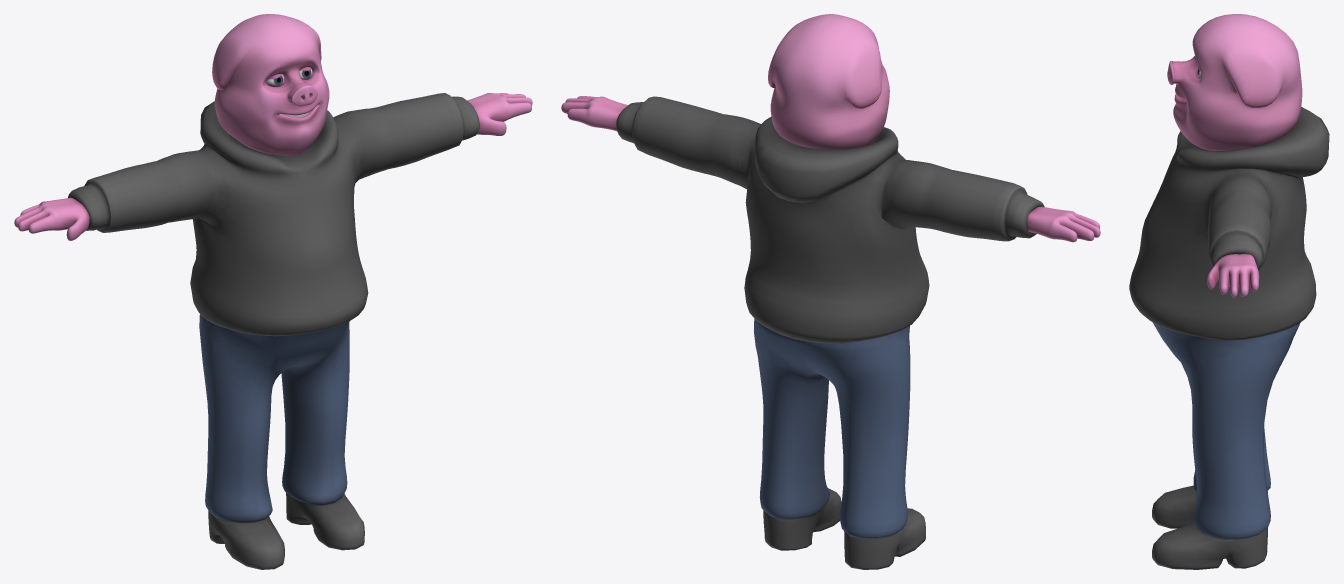
The model's file is mr_pork.fbx.
The picture shows the model from 3 angles, left to right: view 1: azimuth 30°, elevation 25°; view 2: azimuth 150°, elevation 25°; view 3: azimuth 270°, elevation 25°; orthographic projection. The views are drawn at different scales.
Parts seen in each view (by area): view 1: geo_body, geo_head; view 2: geo_body, geo_head; view 3: geo_body, geo_head.
Part boxes in pixels (x1=…): geo_body: x1=14, y1=93, x2=532, y2=569; geo_head: x1=212, y1=14, x2=329, y2=156; geo_body: x1=561, y1=96, x2=1100, y2=569; geo_head: x1=768, y1=14, x2=889, y2=149; geo_body: x1=1129, y1=107, x2=1329, y2=569; geo_head: x1=1167, y1=14, x2=1302, y2=150.
Size of the model in its own units: 600 by 570 by 198.
1 material, 1 textured.
